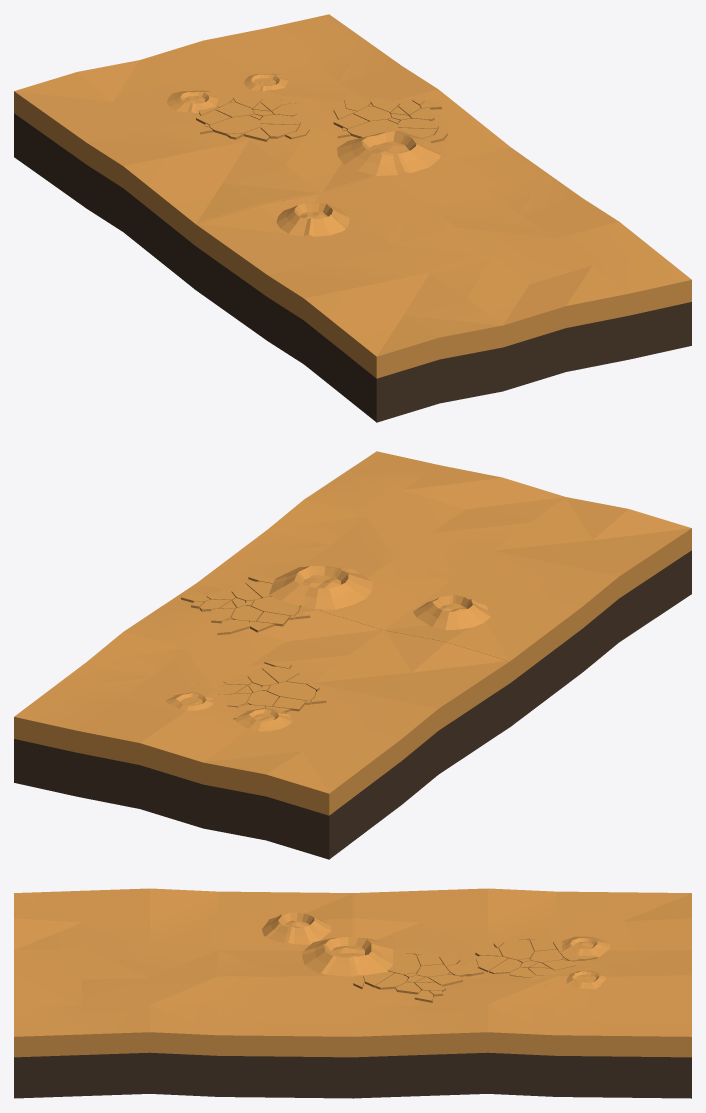
The picture shows the model from 3 angles, top to bottom: view 1: azimuth 30°, elevation 25°; view 2: azimuth 150°, elevation 25°; view 3: azimuth 270°, elevation 25°; orthographic projection. The views are drawn at different scales.
Parts seen in each view (by area): view 1: -mesh; view 2: -mesh; view 3: -mesh.
Boxes of the visible parts, x1,y1,x2,y2 form: -mesh: [14, 14, 691, 422]; -mesh: [14, 451, 691, 859]; -mesh: [14, 888, 691, 1098].
Bounding box in the file's own units: 15 × 4.67 × 29.9.
